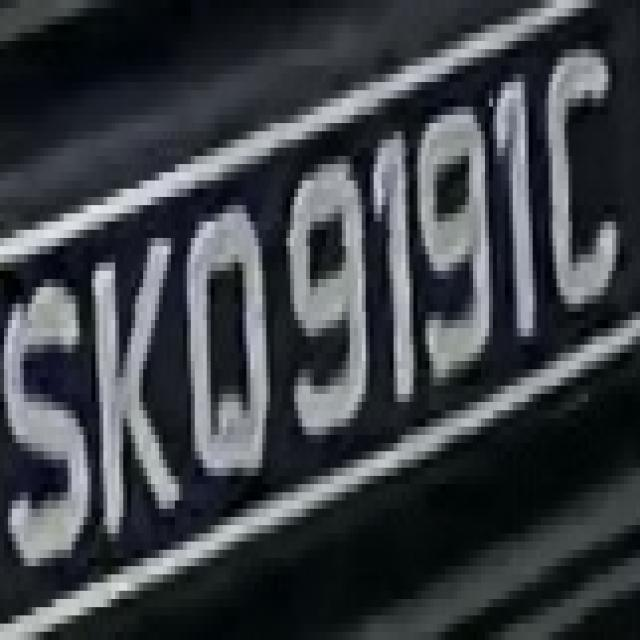1: (362, 106, 421, 426), (485, 74, 541, 361)
9: (278, 156, 370, 468), (405, 90, 501, 378)
C: (545, 49, 624, 328)
K: (91, 222, 187, 550)
Q: (171, 180, 274, 492)
S: (8, 262, 95, 590)
